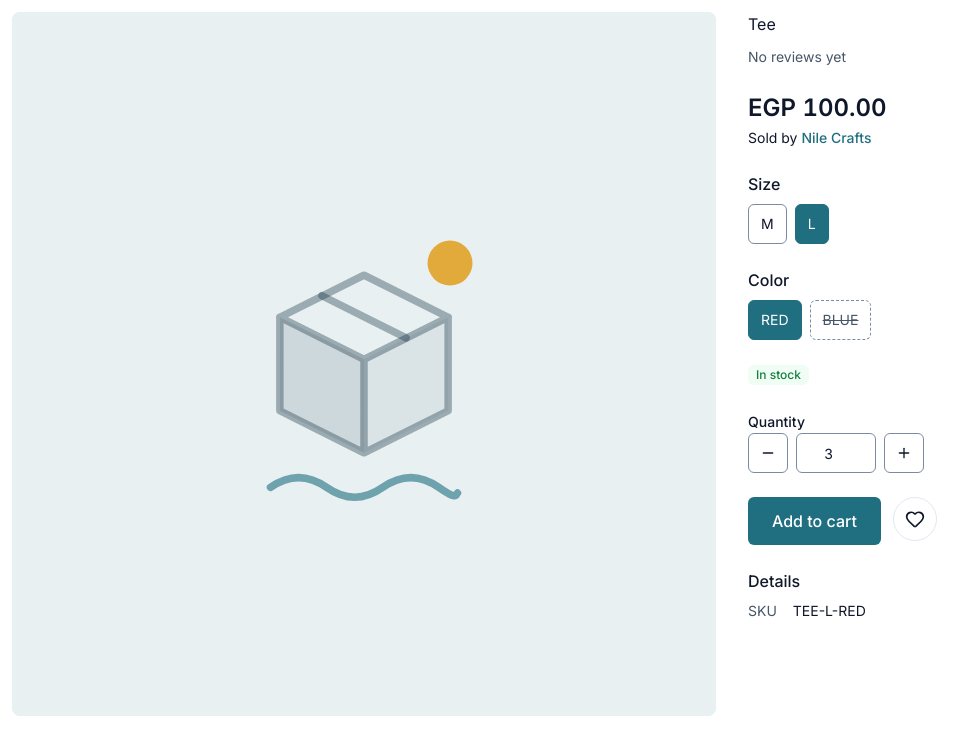
Test case: product page (spec 01 SF-05) › ?variant and ?qty preselect (back from sign-in); the stepper stays within 1..available
The width and height of the screenshot is (954, 733).
Expected: the radio button labelled "L" is checked, [795, 204, 829, 244]
Expected: the number field labelled "Quantity" holds "3", [796, 433, 876, 473]
Click the button named "Increase quantity" at (904,453), box [884, 433, 924, 473]
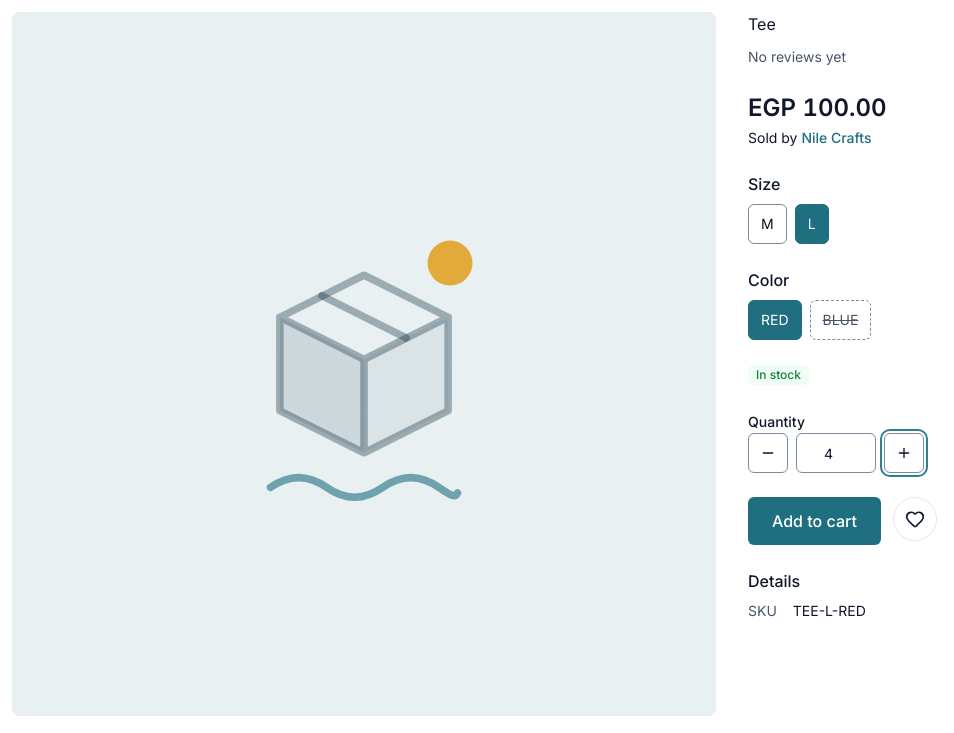
Click the button named "Increase quantity" at (904,453), box [884, 433, 924, 473]
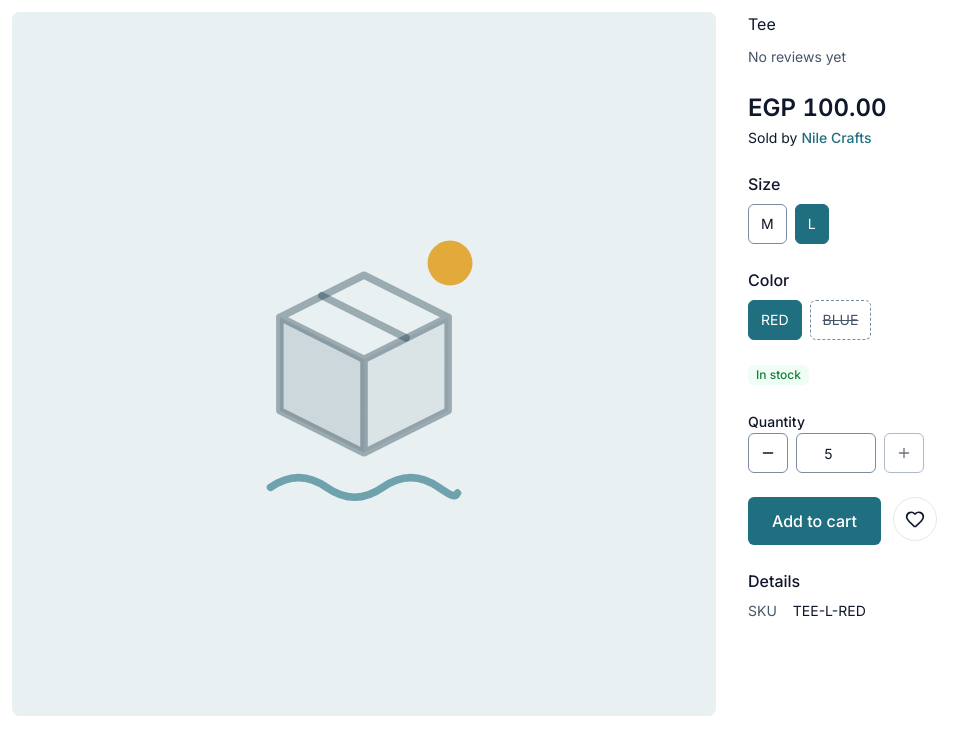
Result: the number field labelled "Quantity" holds "5" at [796, 433, 876, 473]
Result: the button named "Increase quantity" is disabled at [884, 433, 924, 473]
